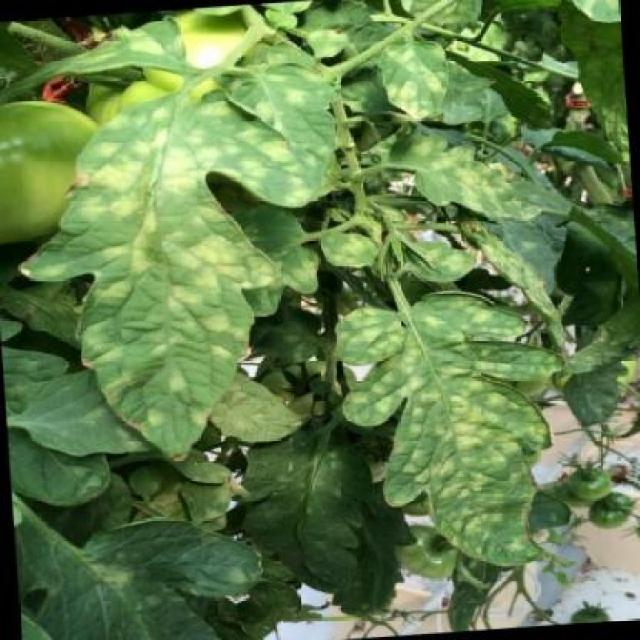Leaf Mold: (52, 88, 318, 465), (335, 283, 579, 581), (381, 123, 547, 231), (219, 52, 343, 159), (35, 11, 189, 86), (199, 352, 306, 449), (380, 37, 457, 131), (315, 230, 386, 277), (415, 236, 482, 284)
